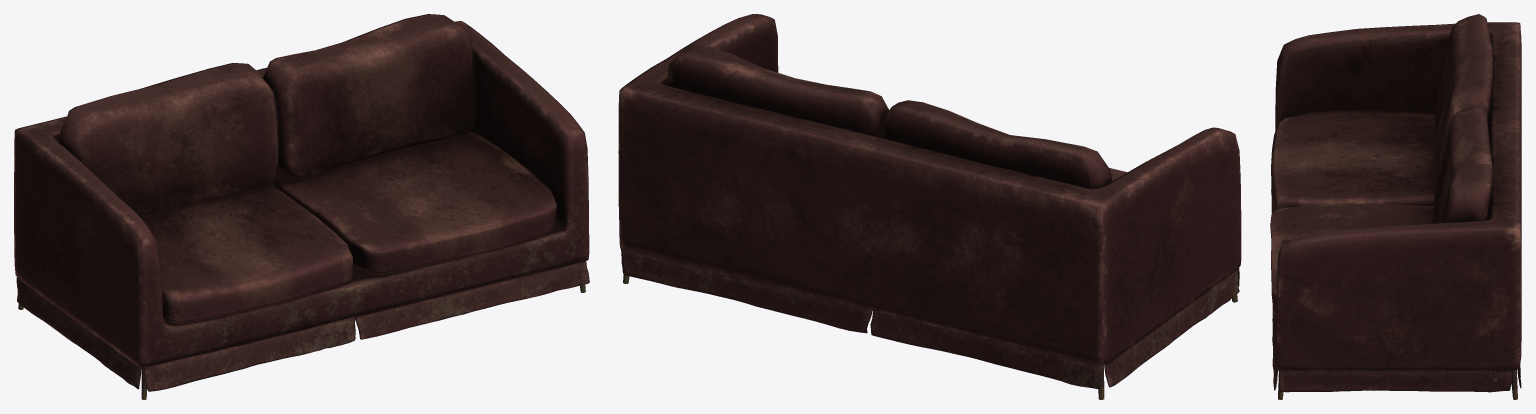
File: old_couch.obj
The picture shows the model from 3 angles, left to right: view 1: azimuth 30°, elevation 25°; view 2: azimuth 150°, elevation 25°; view 3: azimuth 270°, elevation 25°; orthographic projection. The views are drawn at different scales.
Visible parts, largest first — view 1: obj1; view 2: obj1; view 3: obj1.
Boxes of the visible parts, x1,y1,x2,y2 form: obj1: [14, 14, 589, 399]; obj1: [618, 14, 1241, 399]; obj1: [1270, 14, 1521, 399].
Bounding box in the file's own units: 202 × 90.07 × 102.
1 material, 1 textured.
